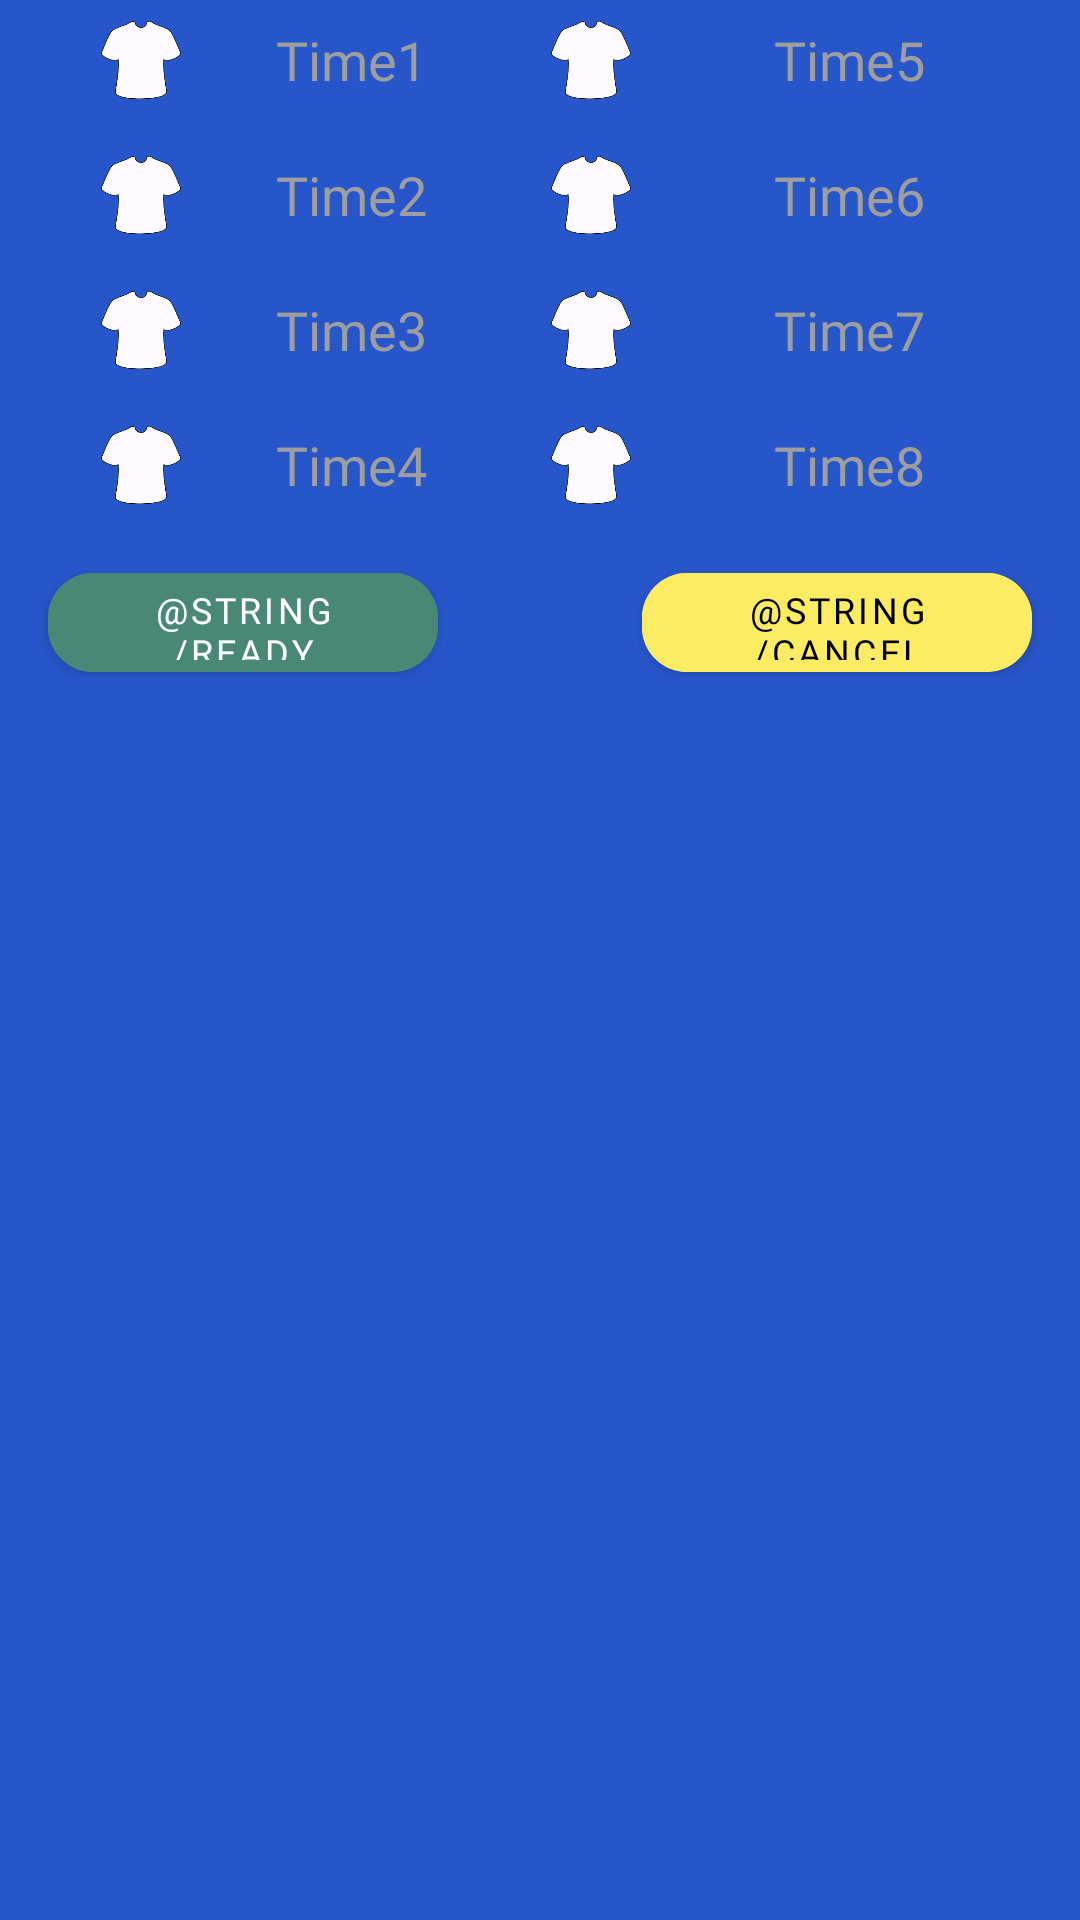

Screen size 1080x1920. Icon name, then its center in pixels as (x,y):
shirt select: (141,60), (591,60), (141,195), (591,195), (141,330), (591,330), (141,465), (591,465)
